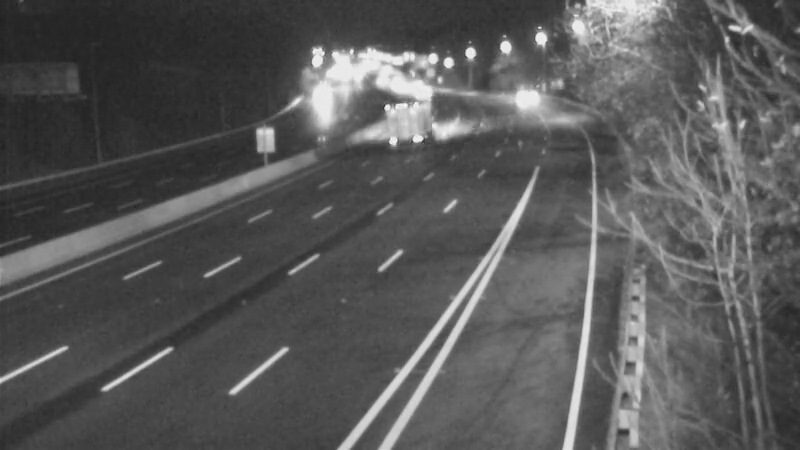vehicle: (391, 101, 441, 151), (494, 64, 544, 114)
